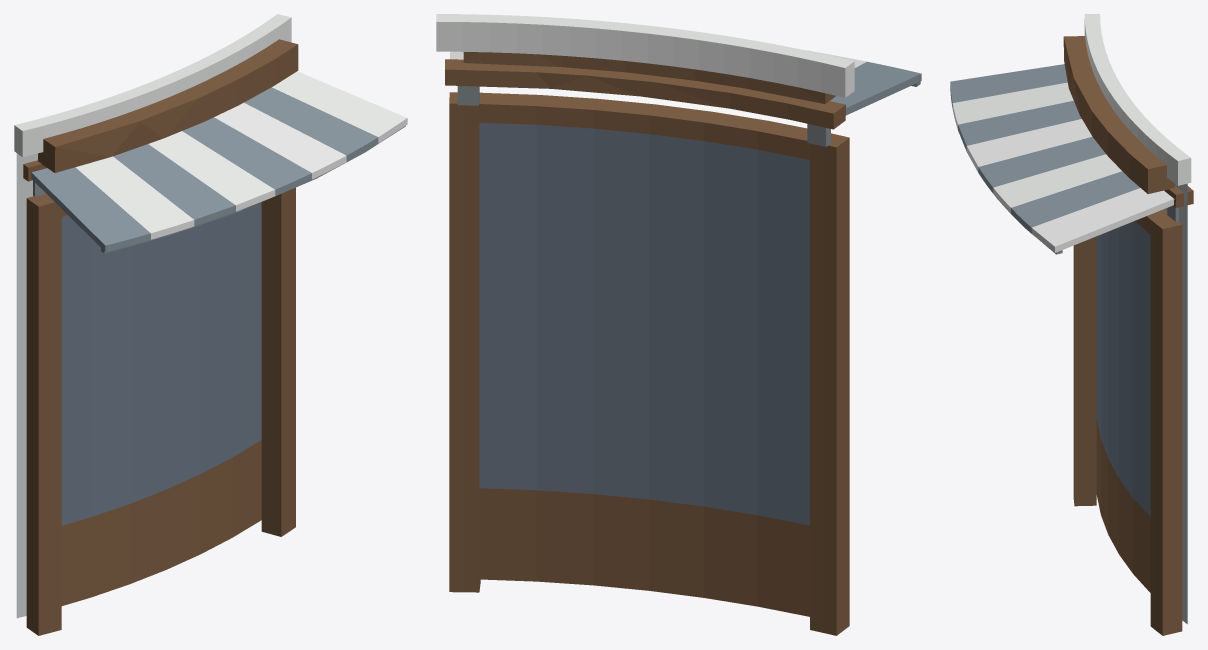
Rendered from ArcShopfront_R4_A30.glb.
3 views of the same model, side by side, from view 1: azimuth 30°, elevation 25°; view 2: azimuth 150°, elevation 25°; view 3: azimuth 270°, elevation 25° (orthographic). The views are drawn at different scales.
Parts seen in each view (by area): view 1: PBK_Arc_PBK_glass.002, PBK_Continuous_Frame_Modern_Shopfront.003, PBK_Arc_PBK_glass.005_Frame_Base20.001, PBK_Arc_PBK_signboard.006, PBK_floor_band.048, PBK_Modern_ArcShopfront_R4_A30_Exterior_Surface.001, PBK_Arc_PBK_awning_stripe.006, PBK_Arc_PBK_awning_stripe.007, PBK_Arc_PBK_awning_stripe.011, PBK_Arc_PBK_awning_stripe.012, PBK_Arc_PBK_awning_stripe.013, PBK_Arc_PBK_awning_stripe.014 (+2 smaller); view 2: PBK_Arc_PBK_glass.002, PBK_Continuous_Frame_Modern_Shopfront.003, PBK_Arc_PBK_glass.005_Frame_Base20.001, PBK_floor_band.048, PBK_Arc_PBK_awning_wall_mount.001, PBK_Arc_PBK_signboard.006, PBK_Arc_PBK_awning_stripe.006; view 3: PBK_Continuous_Frame_Modern_Shopfront.003, PBK_Arc_PBK_glass.002, PBK_Arc_PBK_signboard.006, PBK_Arc_PBK_glass.005_Frame_Base20.001, PBK_floor_band.048, PBK_Arc_PBK_awning_stripe.022, PBK_Arc_PBK_awning_stripe.015, PBK_Arc_PBK_awning_stripe.014, PBK_Arc_PBK_awning_stripe.013, PBK_Arc_PBK_awning_stripe.012, PBK_Modern_ArcShopfront_R4_A30_Exterior_Surface.001, PBK_Arc_PBK_awning_stripe.011 (+3 smaller).
Boxes of the visible parts, x1,y1,x2,y2 form: PBK_Arc_PBK_glass.002: (61, 202, 261, 525); PBK_Continuous_Frame_Modern_Shopfront.003: (26, 187, 295, 635); PBK_Arc_PBK_glass.005_Frame_Base20.001: (61, 440, 261, 605); PBK_Arc_PBK_signboard.006: (38, 39, 298, 172); PBK_floor_band.048: (14, 14, 291, 157); PBK_Modern_ArcShopfront_R4_A30_Exterior_Surface.001: (16, 153, 37, 618); PBK_Arc_PBK_awning_stripe.006: (31, 167, 150, 251); PBK_Arc_PBK_awning_stripe.007: (75, 156, 194, 239); PBK_Arc_PBK_awning_stripe.011: (113, 144, 235, 226); PBK_Arc_PBK_awning_stripe.012: (148, 131, 275, 211); PBK_Arc_PBK_awning_stripe.013: (182, 117, 311, 195); PBK_Arc_PBK_awning_stripe.014: (214, 102, 346, 179); PBK_Arc_PBK_glass.002: (479, 122, 809, 525); PBK_Continuous_Frame_Modern_Shopfront.003: (449, 92, 849, 635); PBK_Arc_PBK_glass.005_Frame_Base20.001: (479, 488, 809, 616); PBK_floor_band.048: (436, 14, 854, 97); PBK_Arc_PBK_awning_wall_mount.001: (445, 59, 845, 129); PBK_Arc_PBK_signboard.006: (463, 52, 835, 103); PBK_Arc_PBK_awning_stripe.006: (830, 61, 921, 115); PBK_Continuous_Frame_Modern_Shopfront.003: (1073, 209, 1182, 635); PBK_Arc_PBK_glass.002: (1096, 221, 1150, 516); PBK_Arc_PBK_signboard.006: (1063, 36, 1174, 193); PBK_Arc_PBK_glass.005_Frame_Base20.001: (1096, 419, 1150, 592); PBK_floor_band.048: (1084, 14, 1191, 185); PBK_Arc_PBK_awning_stripe.022: (1031, 188, 1174, 252); PBK_Arc_PBK_awning_stripe.015: (1011, 171, 1139, 233); PBK_Arc_PBK_awning_stripe.014: (993, 154, 1121, 213); PBK_Arc_PBK_awning_stripe.013: (978, 136, 1105, 193); PBK_Arc_PBK_awning_stripe.012: (966, 119, 1092, 172); PBK_Modern_ArcShopfront_R4_A30_Exterior_Surface.001: (1164, 183, 1187, 624); PBK_Arc_PBK_awning_stripe.011: (958, 100, 1081, 150).
Bounding box in the file's own units: 2.36 × 3.07 × 1.42.
